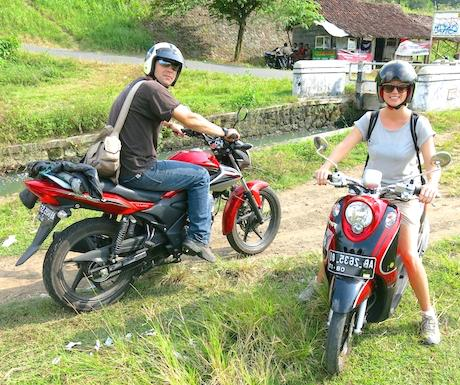With Helmet: (364, 57, 427, 110), (139, 34, 189, 92)
